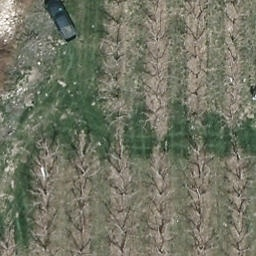car: (43, 0, 80, 42)
